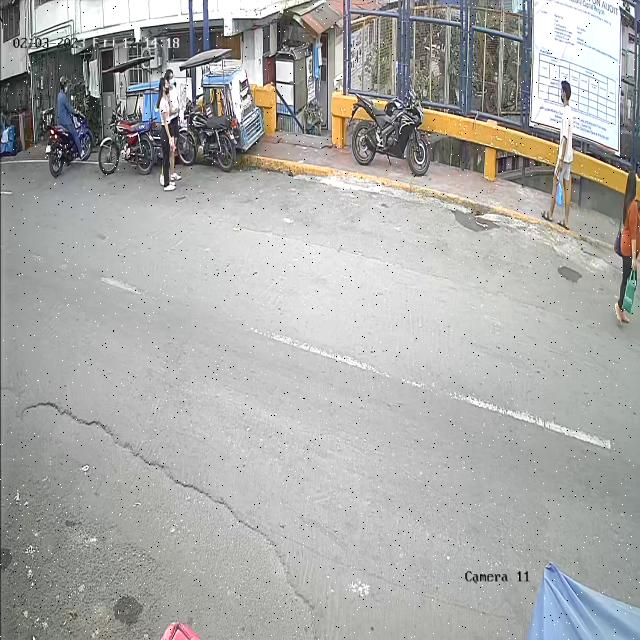garbage_dumping: (555, 172, 566, 213)
